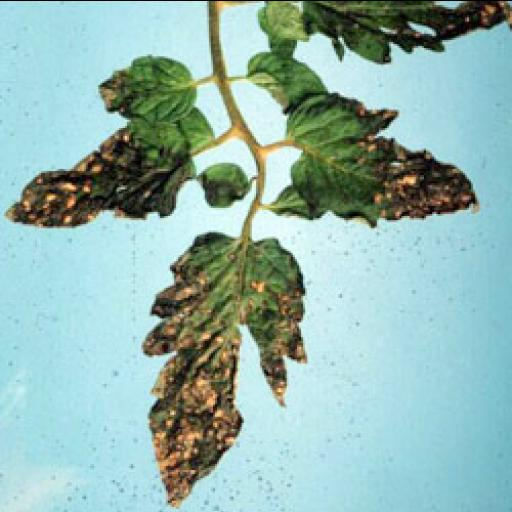Septoria: (136, 228, 310, 510), (4, 98, 214, 231), (286, 133, 479, 228)
